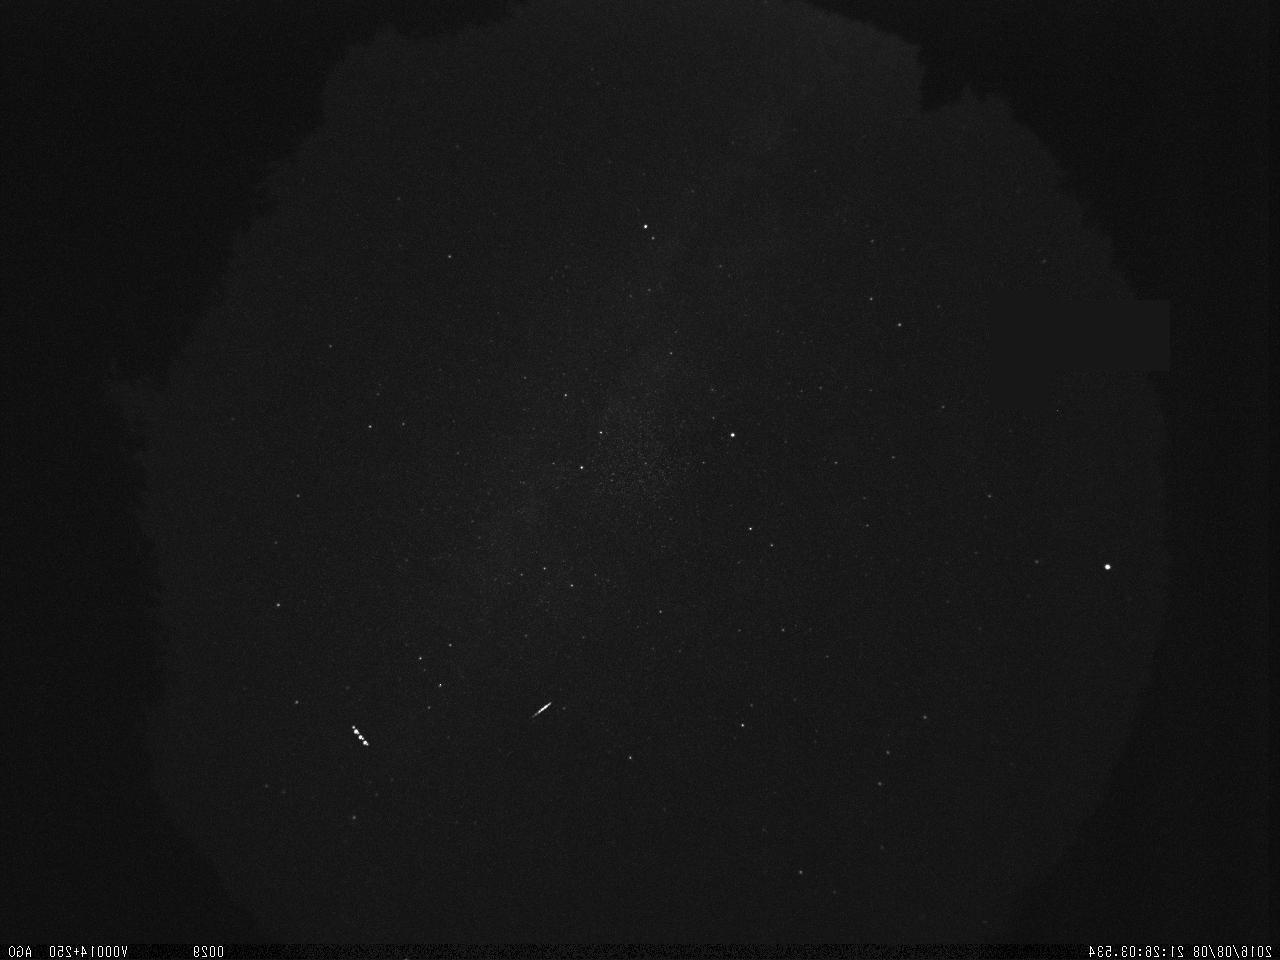meteor: (523, 696, 558, 729)
satelite: (346, 718, 376, 756)
